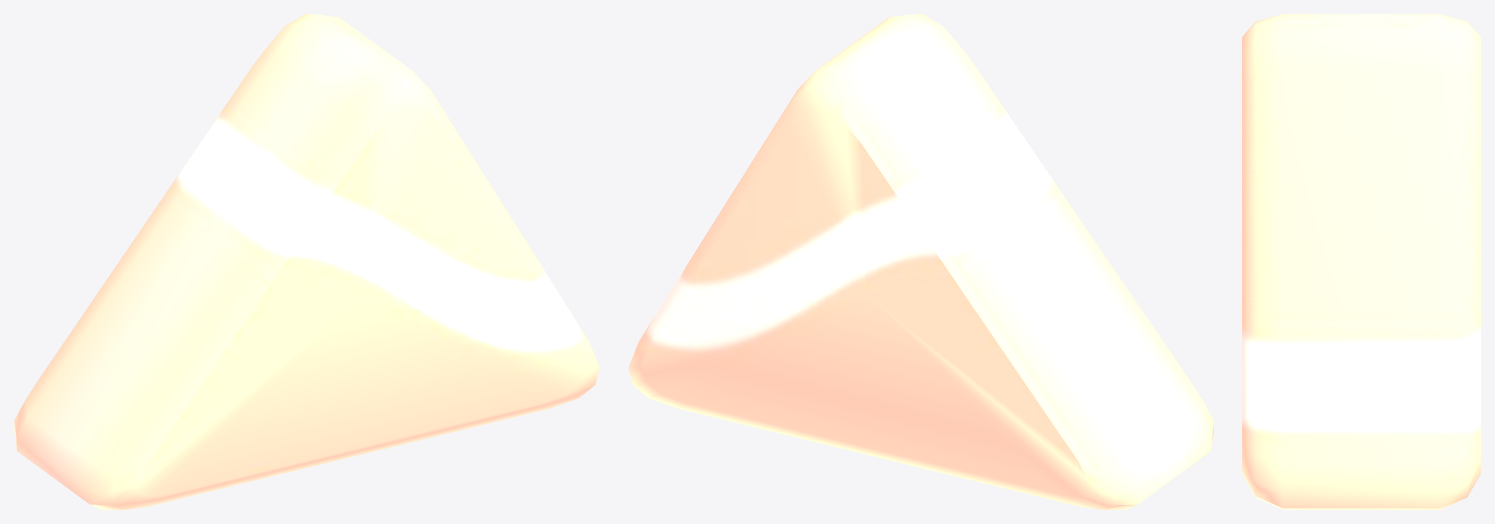
3 views of the same model, side by side, from view 1: azimuth 30°, elevation 25°; view 2: azimuth 150°, elevation 25°; view 3: azimuth 270°, elevation 25° (orthographic). The views are drawn at different scales.
Visible parts, largest first — view 1: glow_Frosted_pumpkin_candy; view 2: glow_Frosted_pumpkin_candy; view 3: glow_Frosted_pumpkin_candy.
Boxes of the visible parts, x1=… form: glow_Frosted_pumpkin_candy: x1=14, y1=14, x2=599, y2=509; glow_Frosted_pumpkin_candy: x1=628, y1=14, x2=1213, y2=509; glow_Frosted_pumpkin_candy: x1=1242, y1=14, x2=1480, y2=509.
Size of the model in its own units: 0.9206 by 0.6475 by 0.35.
Materials: 1 (1 with a texture image).
